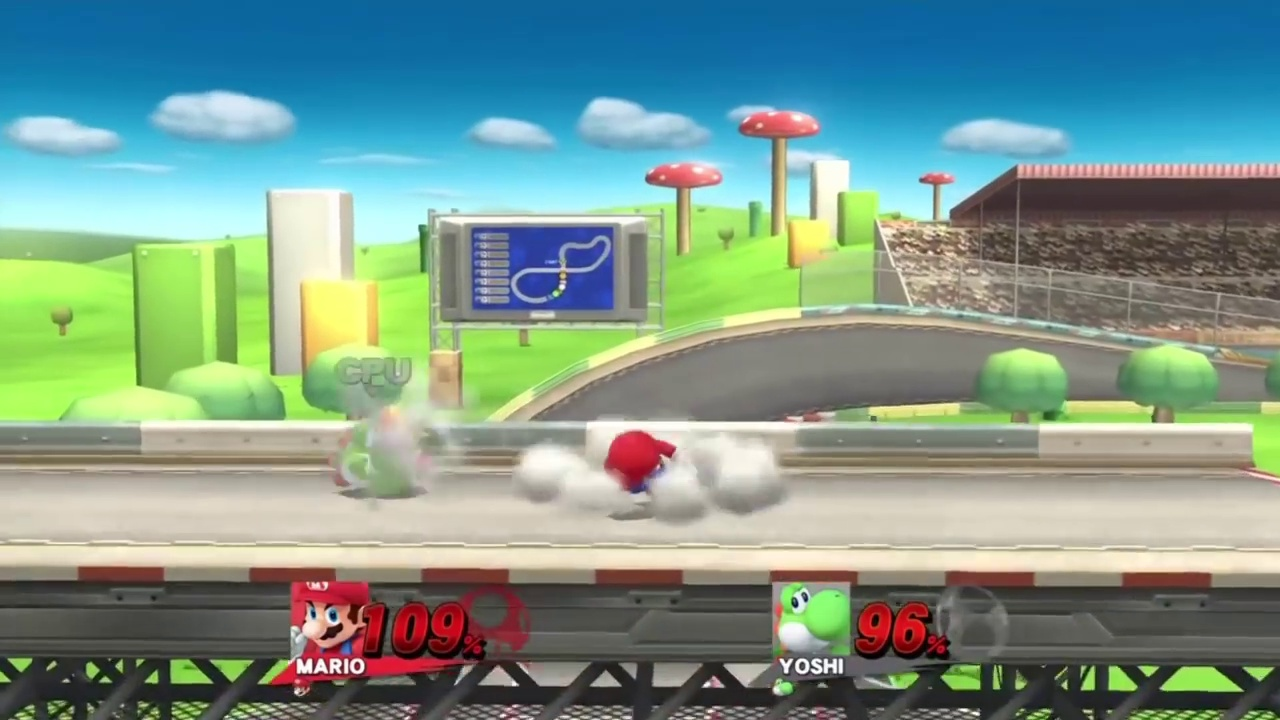Mario: (601, 431, 681, 497)
